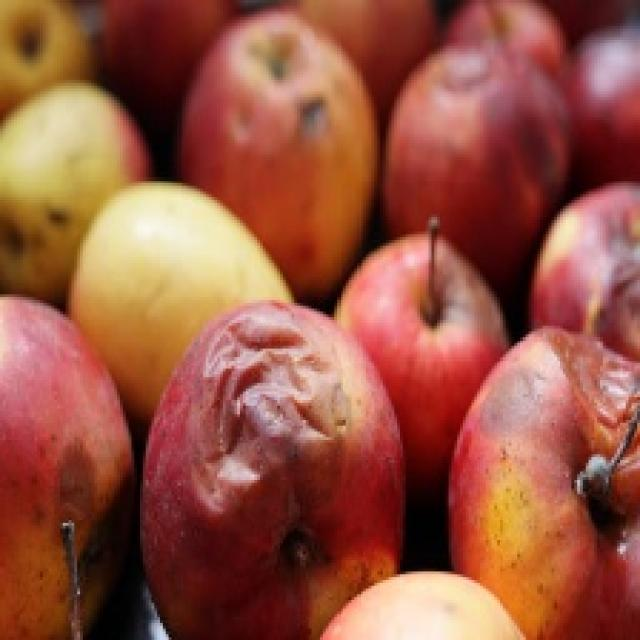rotten_apple: (144, 303, 396, 582), (452, 329, 638, 576), (0, 302, 131, 640), (182, 12, 370, 189)
